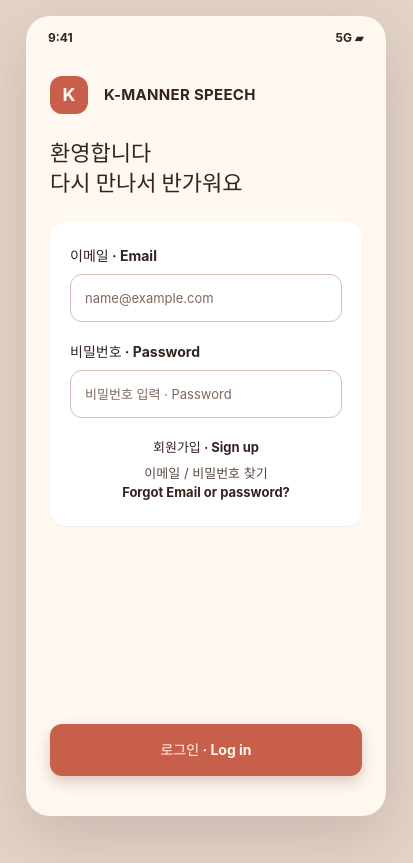
Test case: 로그인 화면의 회원가입 버튼은 A03 공개 화면으로 이동한다
Click the link "회원가입 · Sign up" at (206, 447), box x1=153 y1=438 x2=259 y2=456
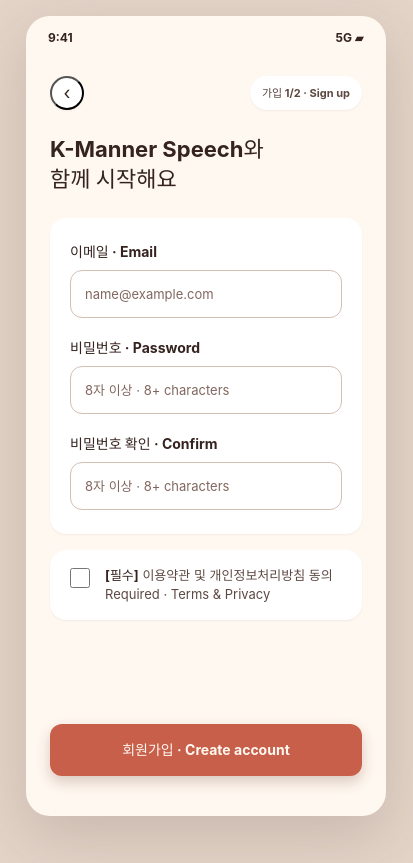
Now the heading "K-Manner Speech와 함께 시작해요" is shown, box x1=50 y1=136 x2=264 y2=192
Now the text "가입 1/2 · Sign up" is shown, box x1=250 y1=76 x2=362 y2=110
